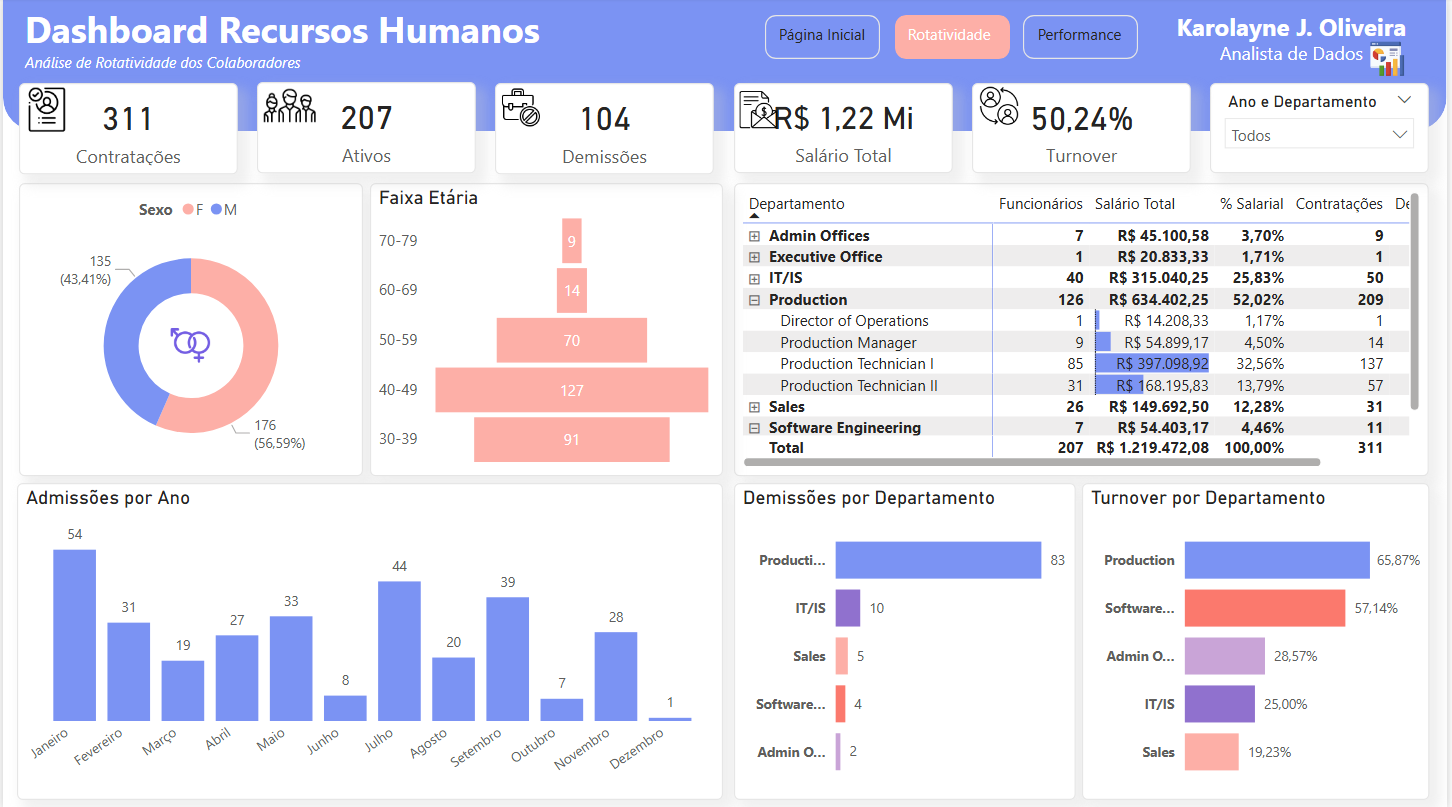

The dashboard page shown, as its layout file describes it:
{"tool":"powerbi","page":{"name":"Rotatividade","canvas":[1280,720],"ordinal":1},"visuals":[{"type":"shape","box":[0,0,1280.4,117.9],"z":0},{"type":"card","fields":{"Values":["#Medidas.Salario Total"]},"box":[647.8,75.4,194.2,79.8],"z":1000},{"type":"donutChart","fields":{"Y":["CountNonNull(HRDataset_v14.GenderID)"],"Category":["HRDataset_v14.Sex"]},"box":[14.2,164,305,259.8],"z":2000},{"type":"pivotTable","fields":{"Rows":["HRDataset_v14.Department","HRDataset_v14.Position"],"Values":["#Medidas.Ativos","#Medidas.Base Salarial","Divide(#Medidas.Base Salarial, ScopedEval(#Medidas.Base Salarial, []))","#Medidas.Contratações","#Medidas.Demissões"]},"box":[647.8,164.2,616.4,259.7],"z":3000},{"type":"funnel","title":"Faixa Etária","fields":{"Y":["CountNonNull(HRDataset_v14.Sex)"],"Category":["HRDataset_v14.Intervalo"]},"box":[325.4,164,313,259.8],"z":4000},{"type":"columnChart","title":"Admissões por Ano","fields":{"Y":["#Medidas.Contratações"],"Category":["dim_calendario.Nome do Mês"]},"box":[12.4,430,626,281.1],"z":5000},{"type":"slicer","fields":{"Values":["dim_calendario.Ano","HRDataset_v14.Department"]},"box":[1070.2,75.4,194.2,79.8],"z":6000},{"type":"card","fields":{"Values":["#Medidas.Funcionarios Ativos"]},"box":[225.4,74.5,194.2,80.7],"z":7000},{"type":"card","fields":{"Values":["#Medidas.Funcionarios desligados 2"]},"box":[436.6,75.4,194.2,80.7],"z":8000},{"type":"card","fields":{"Values":["#Medidas.% Turnover"]},"box":[859,75.4,194.2,79.8],"z":9000},{"type":"barChart","title":"Demissões por Departamento","fields":{"Category":["HRDataset_v14.Department"],"Y":["#Medidas.Demissões"]},"box":[648.2,430,303.3,281.1],"z":10000},{"type":"textbox","box":[14.2,0,480.6,78],"z":11000},{"type":"barChart","title":"Turnover por Departamento","fields":{"Category":["HRDataset_v14.Department"],"Y":["#Medidas.Turnover"]},"box":[956.7,430,307.7,281.1],"z":12000},{"type":"textbox","box":[1022.7,5.4,240,72.5],"z":13000},{"type":"card","fields":{"Values":["#Medidas.Contrações 2"]},"box":[14.2,75.4,194.2,80.7],"z":14000},{"type":"image","box":[143.6,285.5,45.2,45.2],"z":15000},{"type":"image","box":[1201.5,32.8,51.4,41.7],"z":16000},{"type":"image","box":[12.4,74.5,53.2,48.8],"z":17000},{"type":"image","box":[225.2,67.4,57.6,55.9],"z":18000},{"type":"image","box":[859.2,73.6,47.9,44.3],"z":19000},{"type":"image","box":[436.3,70,46.1,53.2],"z":20000},{"type":"image","box":[648.2,74.5,42.6,48.8],"z":21000},{"type":"shape","box":[675.7,15.1,102,39],"z":22000},{"type":"textbox","box":[675.4,18.7,102.2,30.6],"z":23000},{"type":"shape","box":[790.9,15.1,102,39],"z":24000},{"type":"shape","box":[904.4,15.1,102,39],"z":25000},{"type":"textbox","box":[797,18.7,96.3,30.6],"z":26000},{"type":"textbox","box":[912.7,18.7,94,40.3],"z":27000},{"type":"actionButton","box":[675.7,14.2,102,39.9],"z":28000},{"type":"actionButton","box":[905.3,15.1,100.2,39.9],"z":29000}]}

Visuals, with their boxes in screenshot pixels (x1, y1, x2, y2), scaled from the page's 1280x720 canvas onto the 1452x807 screenshot:
shape: {"x1": 0, "y1": 0, "x2": 1451, "y2": 132}
card - #Medidas.Salario Total: {"x1": 735, "y1": 85, "x2": 955, "y2": 174}
donutChart - CountNonNull(HRDataset_v14.GenderID) x HRDataset_v14.Sex: {"x1": 16, "y1": 184, "x2": 362, "y2": 475}
pivotTable - HRDataset_v14.Department x HRDataset_v14.Position: {"x1": 735, "y1": 184, "x2": 1434, "y2": 475}
"Faixa Etária" funnel: {"x1": 369, "y1": 184, "x2": 724, "y2": 475}
"Admissões por Ano" columnChart: {"x1": 14, "y1": 482, "x2": 724, "y2": 797}
slicer - dim_calendario.Ano x HRDataset_v14.Department: {"x1": 1214, "y1": 85, "x2": 1434, "y2": 174}
card - #Medidas.Funcionarios Ativos: {"x1": 256, "y1": 84, "x2": 476, "y2": 174}
card - #Medidas.Funcionarios desligados 2: {"x1": 495, "y1": 85, "x2": 716, "y2": 175}
card - #Medidas.% Turnover: {"x1": 974, "y1": 85, "x2": 1195, "y2": 174}
"Demissões por Departamento" barChart: {"x1": 735, "y1": 482, "x2": 1079, "y2": 797}
textbox: {"x1": 16, "y1": 0, "x2": 561, "y2": 87}
"Turnover por Departamento" barChart: {"x1": 1085, "y1": 482, "x2": 1434, "y2": 797}
textbox: {"x1": 1160, "y1": 6, "x2": 1432, "y2": 87}
card - #Medidas.Contrações 2: {"x1": 16, "y1": 85, "x2": 236, "y2": 175}
image: {"x1": 163, "y1": 320, "x2": 214, "y2": 371}
image: {"x1": 1363, "y1": 37, "x2": 1421, "y2": 84}
image: {"x1": 14, "y1": 84, "x2": 74, "y2": 138}
image: {"x1": 255, "y1": 76, "x2": 321, "y2": 138}
image: {"x1": 975, "y1": 82, "x2": 1029, "y2": 132}
image: {"x1": 495, "y1": 78, "x2": 547, "y2": 138}
image: {"x1": 735, "y1": 84, "x2": 784, "y2": 138}
shape: {"x1": 766, "y1": 17, "x2": 882, "y2": 61}
textbox: {"x1": 766, "y1": 21, "x2": 882, "y2": 55}
shape: {"x1": 897, "y1": 17, "x2": 1013, "y2": 61}
shape: {"x1": 1026, "y1": 17, "x2": 1142, "y2": 61}
textbox: {"x1": 904, "y1": 21, "x2": 1013, "y2": 55}
textbox: {"x1": 1035, "y1": 21, "x2": 1142, "y2": 66}
actionButton: {"x1": 766, "y1": 16, "x2": 882, "y2": 61}
actionButton: {"x1": 1027, "y1": 17, "x2": 1141, "y2": 62}
